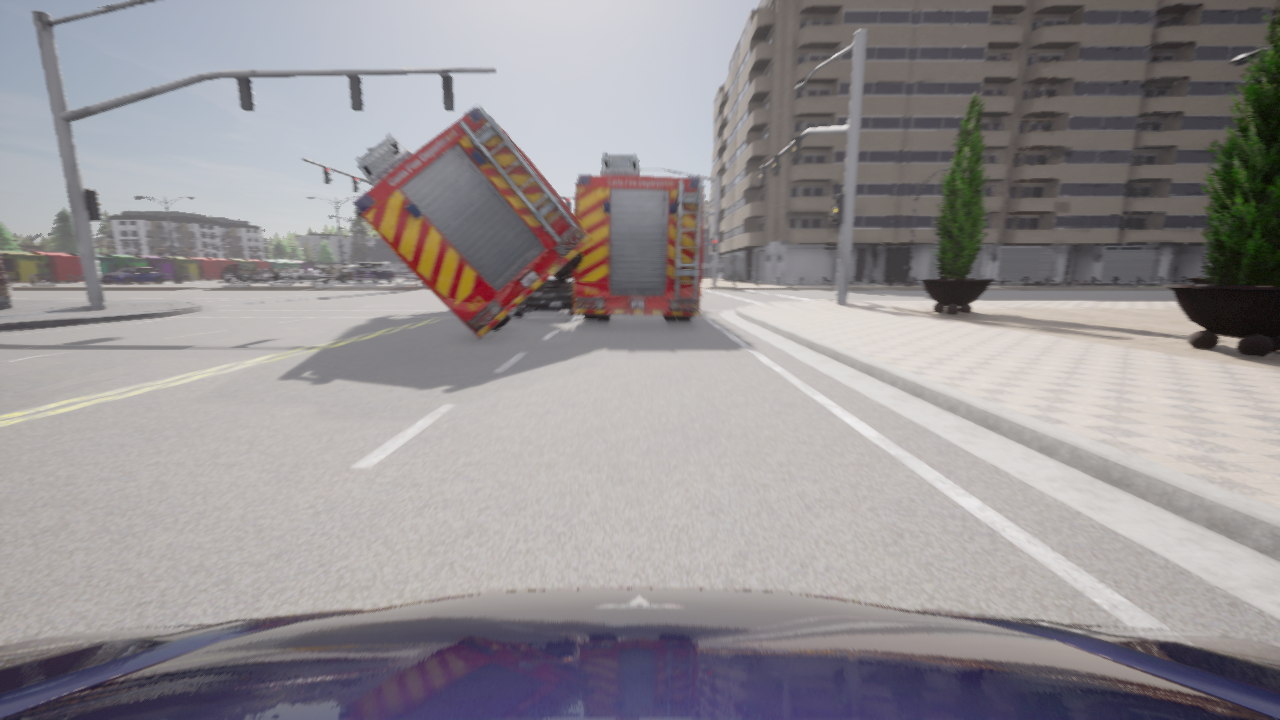cyclist: (0, 588, 1279, 719), (351, 101, 592, 338), (574, 153, 704, 320), (512, 276, 578, 316), (101, 266, 164, 283), (353, 261, 394, 283), (319, 263, 364, 283), (221, 265, 260, 281), (280, 269, 318, 281), (251, 269, 285, 281), (405, 270, 420, 279), (279, 266, 298, 272), (314, 266, 322, 274), (350, 265, 354, 267), (572, 276, 573, 278)
